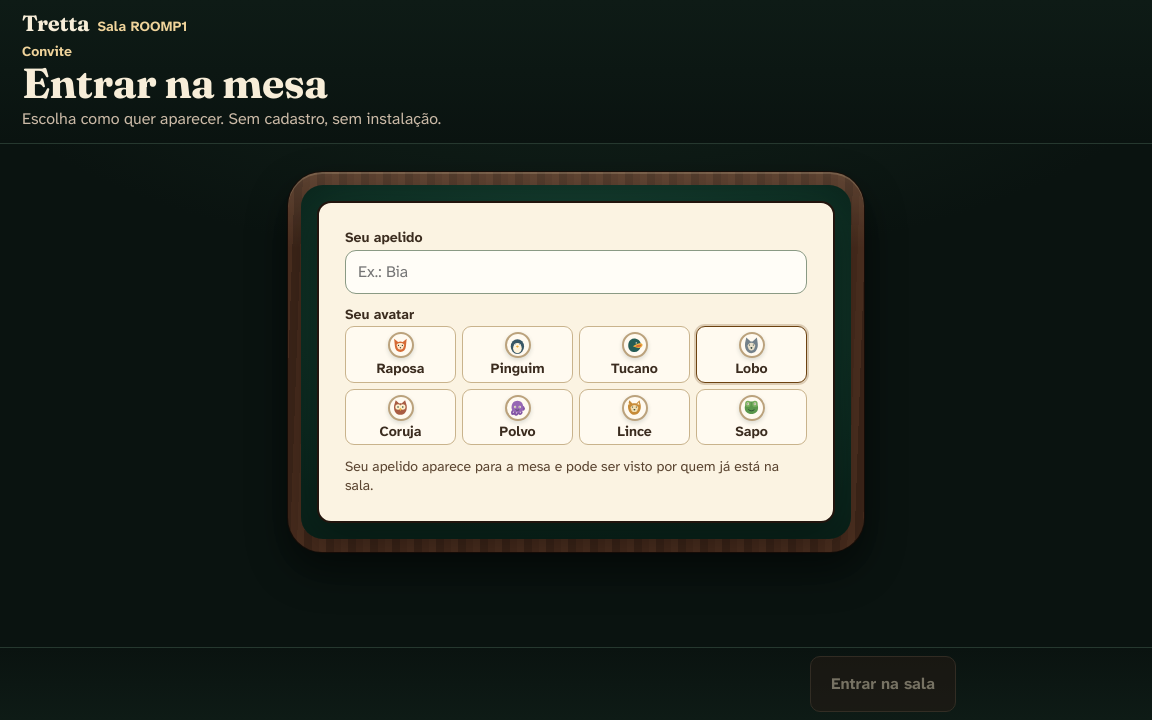
página da sala durante a retomada › sem identidade guardada a entrada normal pelo formulário continua
The image size is (1152, 720).
Type "Bia" into the field with test id "join-name-input" at (576, 272), box [345,250,807,294]
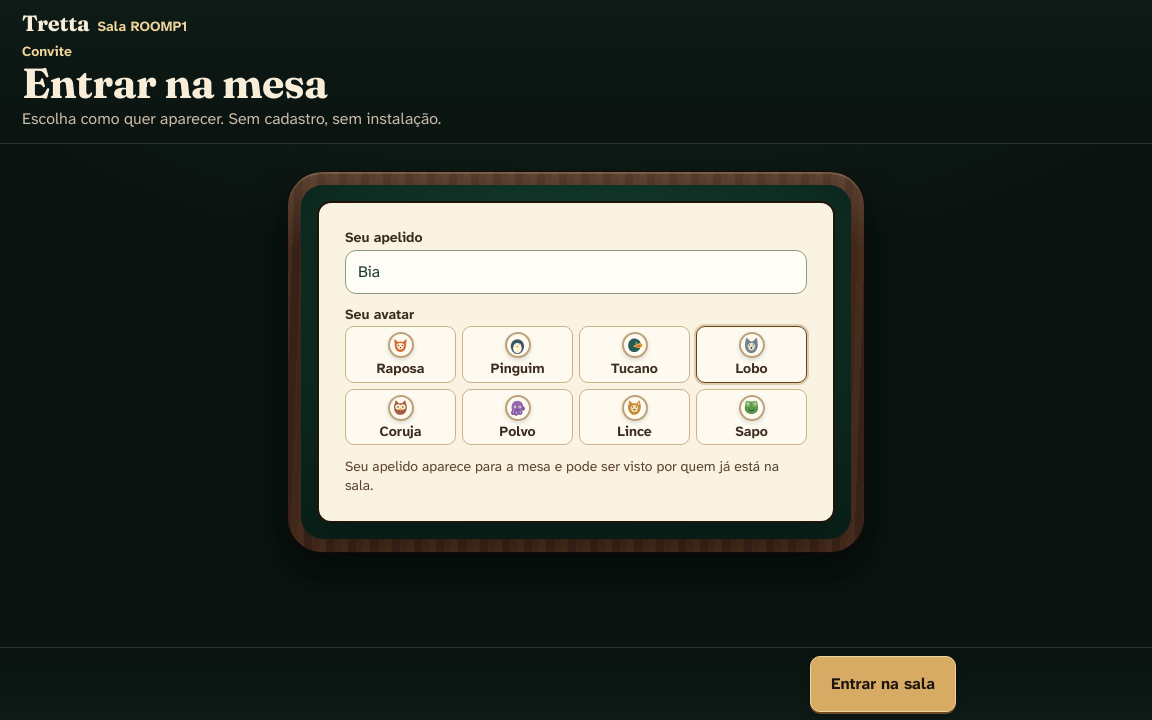
Click the button with test id "join-room-button" at (883, 684), box [810,656,956,712]
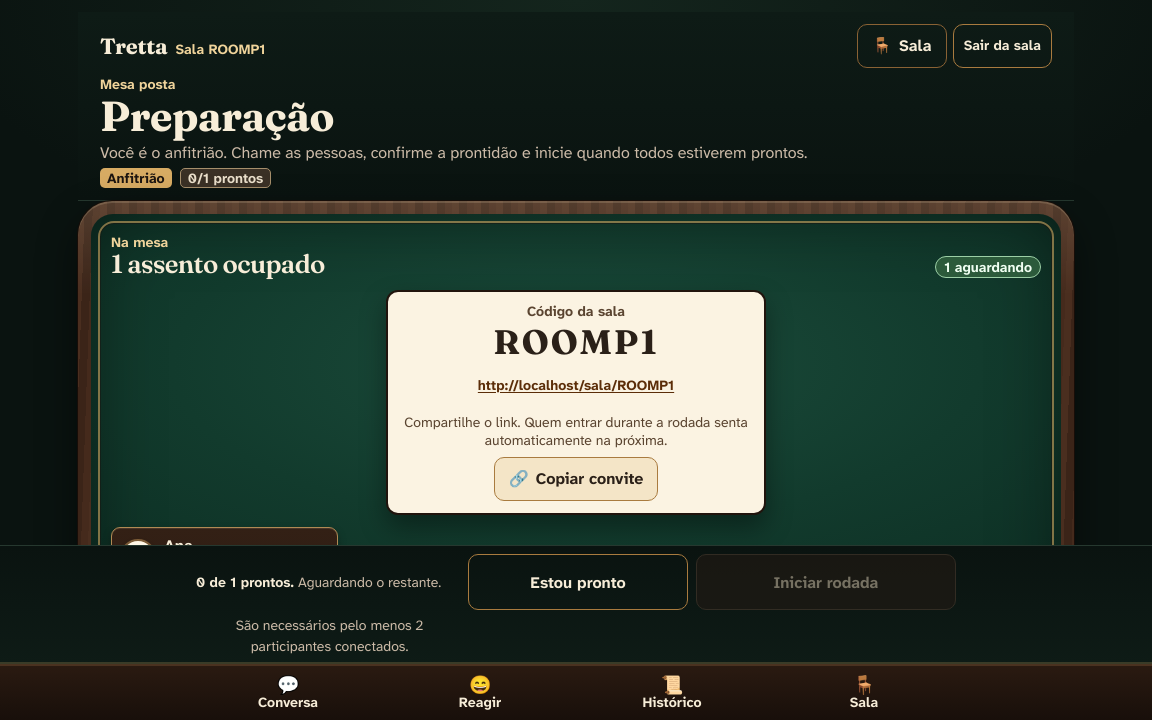
expect the button with test id "ready-toggle" is shown: met, box [468,554,688,610]
